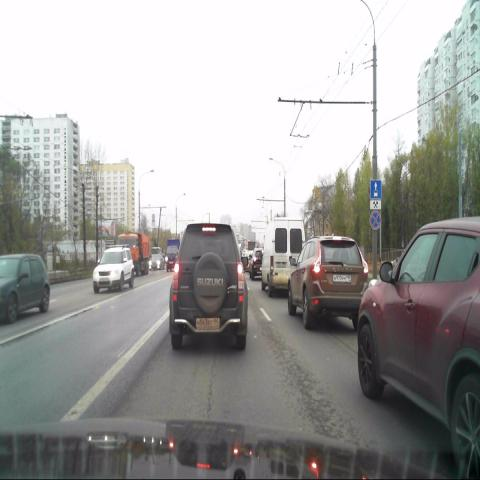5_14: (370, 178, 382, 198)
